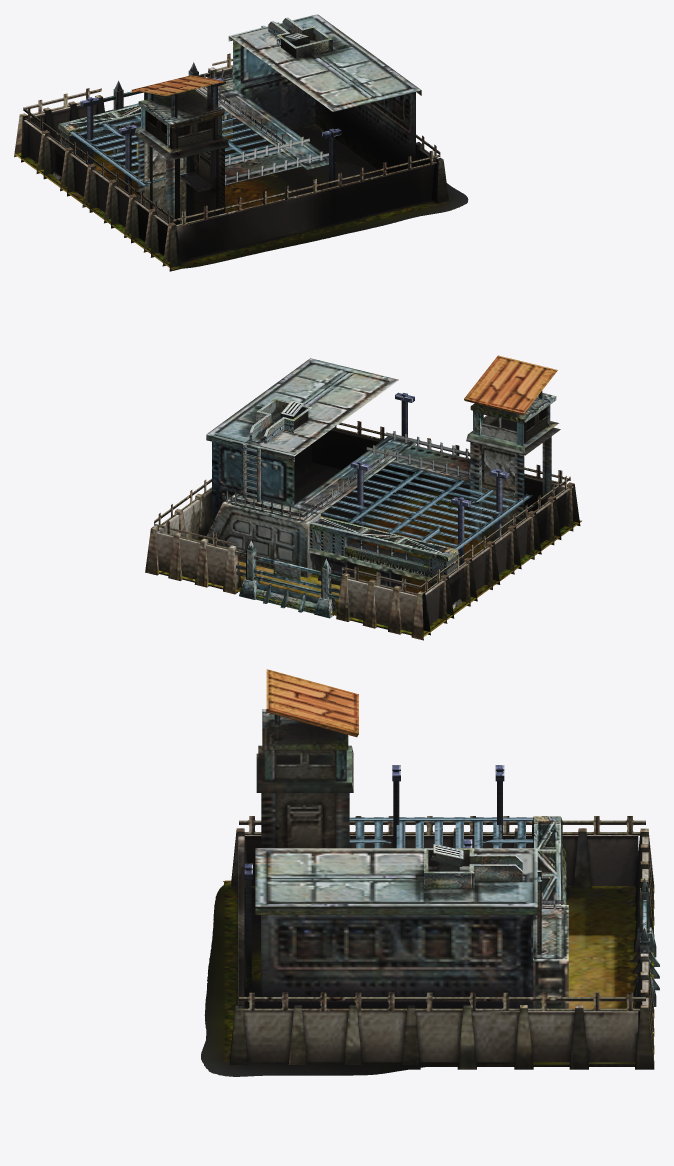
File: jianyu.FBX
3 renders of one model, top to bottom at view 1: azimuth 30°, elevation 25°; view 2: azimuth 150°, elevation 25°; view 3: azimuth 270°, elevation 25°, orthographic. The views are drawn at different scales.
Parts seen in each view (by area): view 1: jitan, jianyu; view 2: jitan, jianyu; view 3: jitan, jianyu.
Boxes of the visible parts, left/top/right/bottom form: jitan: left=14, top=14, right=448, bottom=271; jianyu: left=14, top=124, right=468, bottom=270; jitan: left=145, top=355, right=580, bottom=640; jianyu: left=156, top=462, right=581, bottom=636; jitan: left=230, top=669, right=659, bottom=1069; jianyu: left=201, top=880, right=653, bottom=1076.
Bounding box in the file's own units: 3.2 × 1.22 × 3.21.
